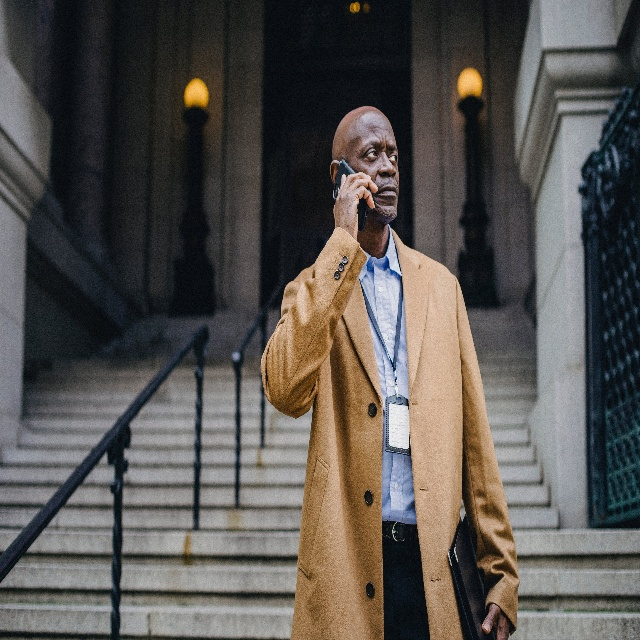Sin_guantes: (333, 171, 379, 236), (481, 599, 511, 640)
